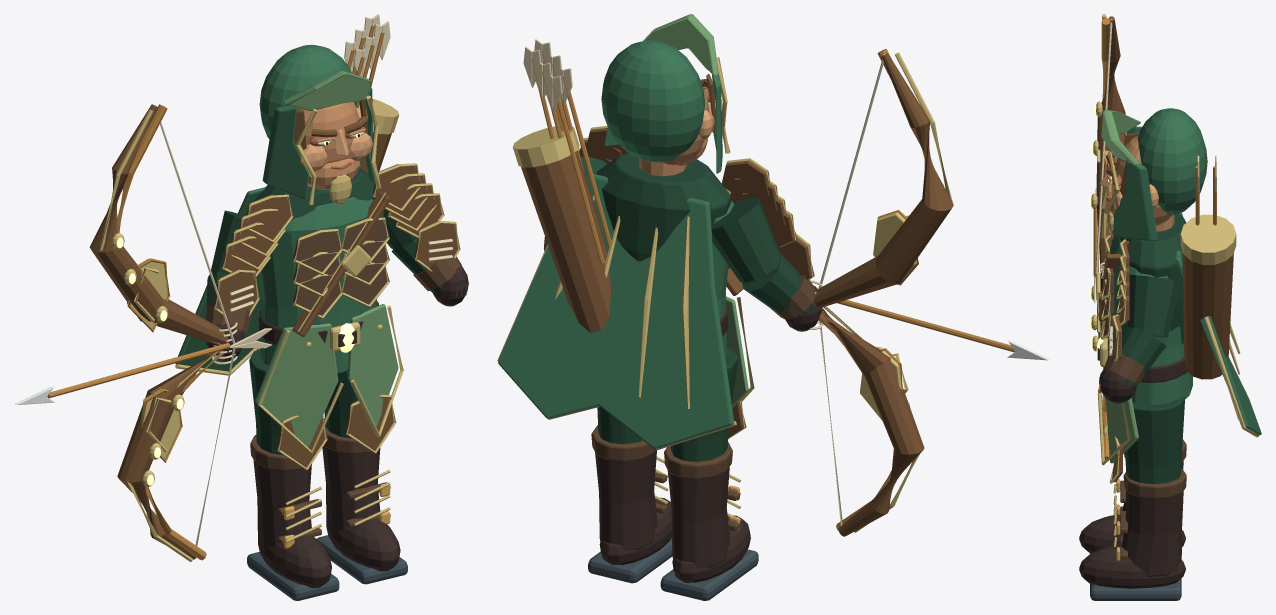
File: ranger.glb
3 views of the same model, side by side, from view 1: azimuth 30°, elevation 25°; view 2: azimuth 150°, elevation 25°; view 3: azimuth 270°, elevation 25° (orthographic). The views are drawn at different scales.
Parts seen in each view (by area): view 1: Ranger — sage woven panels mesh, Ranger — ironwood mesh.006, Ranger — forest wool mesh, Ranger — forest wool mesh.001, Ranger — leaf brass mesh, Weathered dark leather mesh.002, Weathered dark leather mesh, Leather edge mesh.004, Ranger — leaf brass mesh.006, Ranger — golden heartwood mesh.001, Ranger — ironwood mesh.001, Ranger — ironwood mesh.003 (+28 smaller); view 2: Ranger — forest wool mesh, Ranger — ironwood mesh.006, Ranger — forest wool mesh.001, Ranger — ironwood mesh.005, Ranger — evergreen shadows mesh, Weathered dark leather mesh, Weathered dark leather mesh.002, Ranger — evergreen shadows mesh.002, Ranger — leaf brass mesh, Ranger — ironwood mesh.001, Ranger — leaf brass mesh.006, Ranger — golden heartwood mesh (+14 smaller); view 3: Ranger — forest wool mesh.001, Weathered dark leather mesh.002, Ranger — ironwood mesh.005, Ranger — leaf brass mesh, Ranger — forest wool mesh, Ranger — evergreen shadows mesh.003, Ranger — evergreen shadows mesh.004, Ranger — evergreen shadows mesh, Ranger — ironwood mesh.006, Ranger — sage woven panels mesh, Forged black steel mesh.001, Leather edge mesh.002 (+17 smaller).
Part boxes in pixels (x1,y1,x2,y2): Ranger — sage woven panels mesh: (255, 304, 398, 447); Ranger — ironwood mesh.006: (89, 104, 227, 559); Ranger — forest wool mesh: (175, 165, 383, 373); Ranger — forest wool mesh.001: (259, 44, 373, 199); Ranger — leaf brass mesh: (175, 98, 403, 453); Weathered dark leather mesh.002: (322, 446, 400, 571); Weathered dark leather mesh: (253, 459, 331, 588); Leather edge mesh.004: (293, 218, 387, 315); Ranger — leaf brass mesh.006: (100, 109, 221, 561); Ranger — golden heartwood mesh.001: (47, 104, 230, 560); Ranger — ironwood mesh.001: (214, 194, 290, 311); Ranger — ironwood mesh.003: (373, 164, 457, 267); Ranger — forest wool mesh: (498, 173, 733, 448); Ranger — ironwood mesh.006: (814, 53, 953, 536); Ranger — forest wool mesh.001: (601, 40, 722, 173); Ranger — ironwood mesh.005: (521, 151, 743, 332); Ranger — evergreen shadows mesh: (596, 153, 731, 261); Weathered dark leather mesh: (667, 467, 750, 582); Weathered dark leather mesh.002: (595, 450, 671, 565); Ranger — evergreen shadows mesh.002: (711, 197, 815, 319); Ranger — leaf brass mesh: (497, 126, 754, 450); Ranger — ironwood mesh.001: (721, 160, 811, 279); Ranger — leaf brass mesh.006: (824, 52, 952, 532); Ranger — golden heartwood mesh: (531, 51, 611, 263); Ranger — forest wool mesh.001: (1113, 108, 1207, 240); Weathered dark leather mesh.002: (1079, 490, 1185, 588); Ranger — ironwood mesh.005: (1098, 252, 1233, 379); Ranger — leaf brass mesh: (1096, 210, 1258, 465); Ranger — forest wool mesh: (1109, 212, 1261, 435); Ranger — evergreen shadows mesh.003: (1124, 396, 1185, 483); Ranger — evergreen shadows mesh.004: (1122, 275, 1180, 386); Ranger — evergreen shadows mesh: (1120, 213, 1186, 344); Ranger — ironwood mesh.006: (1096, 16, 1125, 339); Ranger — sage woven panels mesh: (1105, 337, 1138, 463); Forged black steel mesh.001: (1090, 578, 1181, 600); Leather edge mesh.002: (1120, 468, 1186, 559).
Size of the model in its own units: 2.21 by 2.39 by 0.8287.
